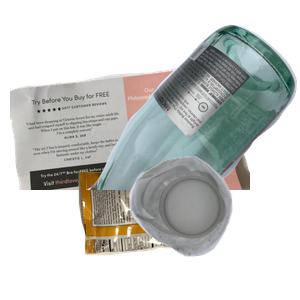glass: (86, 22, 300, 202)
paper: (10, 61, 250, 241)
plastic: (127, 154, 300, 300)
trash: (76, 159, 259, 300)
